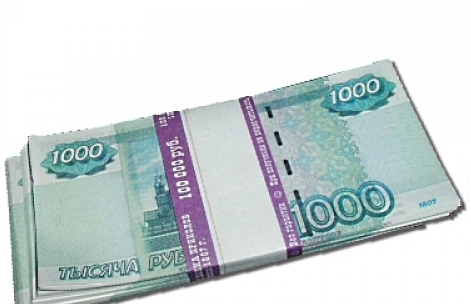cash: (27, 59, 461, 293)
